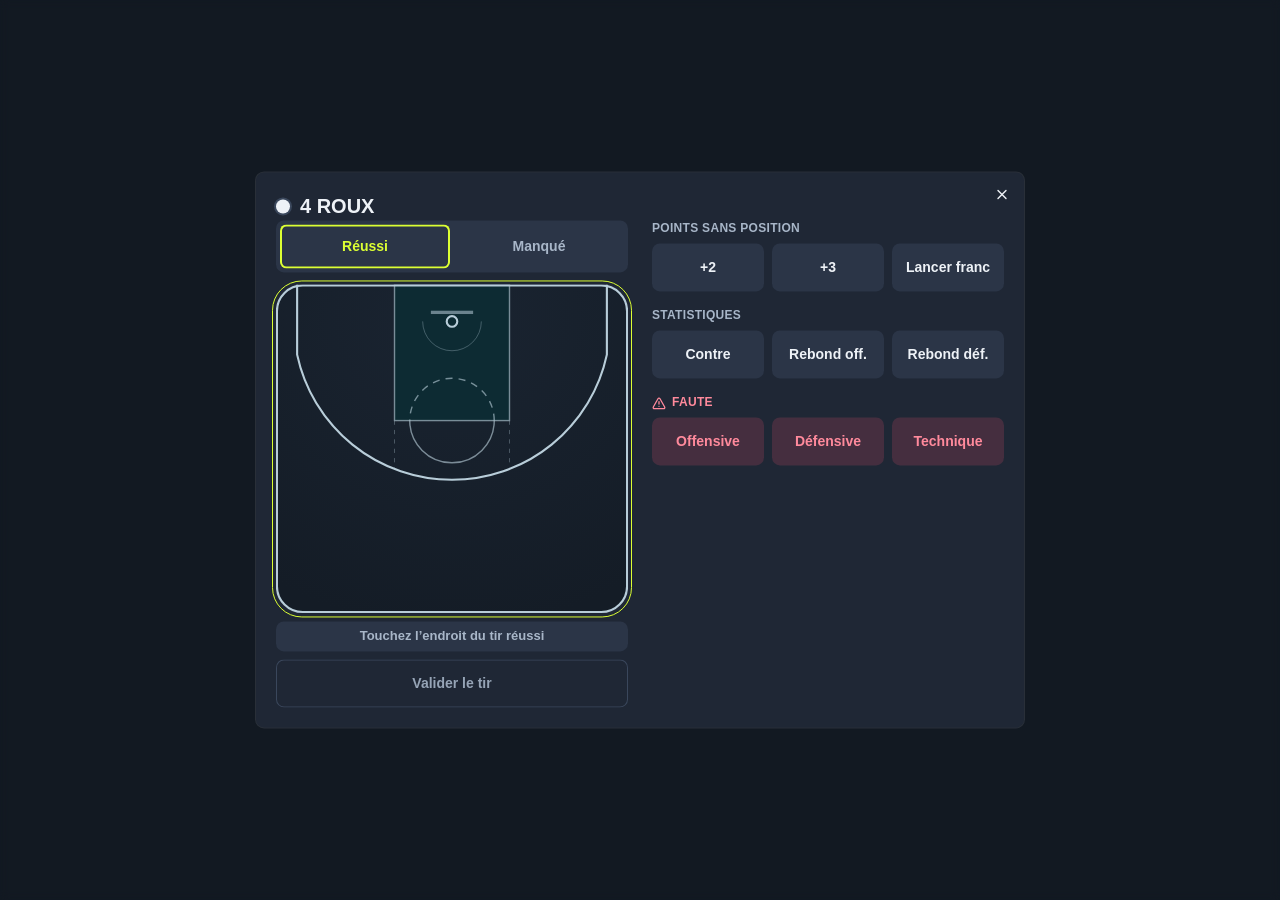
it: PlayerActionDialog — recording a shot › a second tap moves the shot, and validating records it once, at the last spot
Check: the button "Valider le tir" is disabled, box [276,660,628,708]
Click the icon named "Demi-terrain — toucher le point de tir" at [452, 449], box [276,284,628,613]
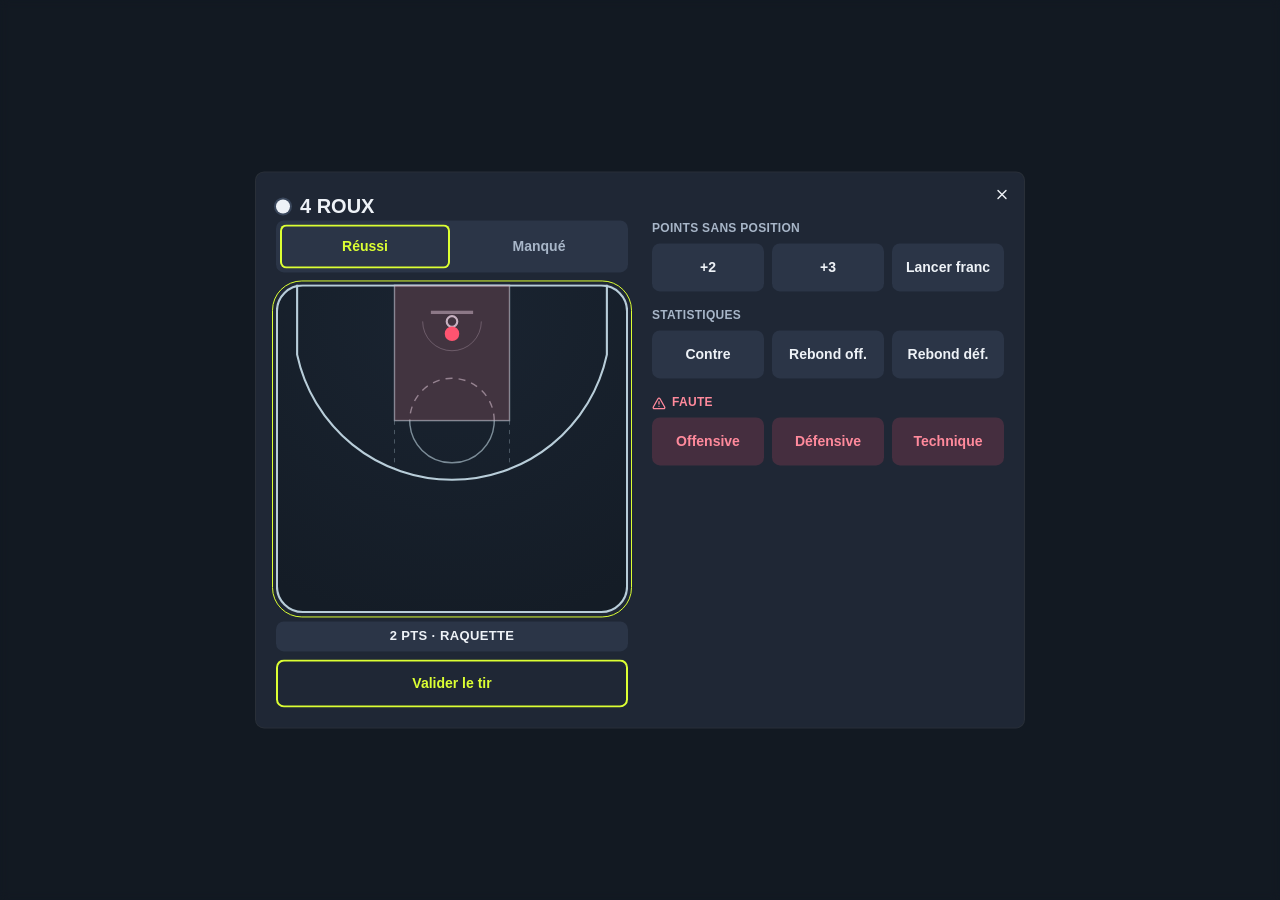
Click the icon named "Demi-terrain — toucher le point de tir" at [452, 449], box [276,284,628,613]
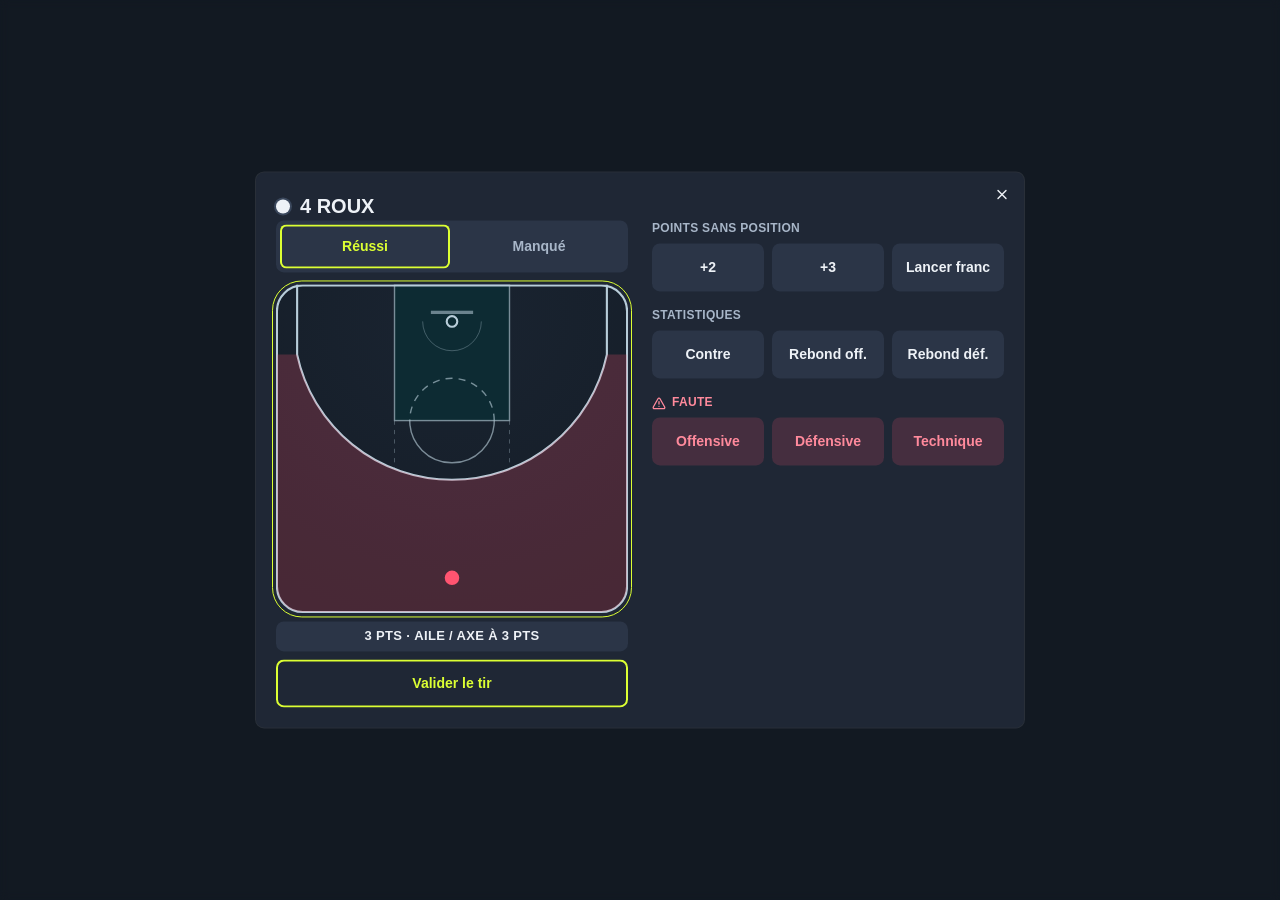
Check: the message shows "3 PTS", box [364,628,540,643]
Click the button "Valider le tir" at [452, 684], box [276,660,628,708]
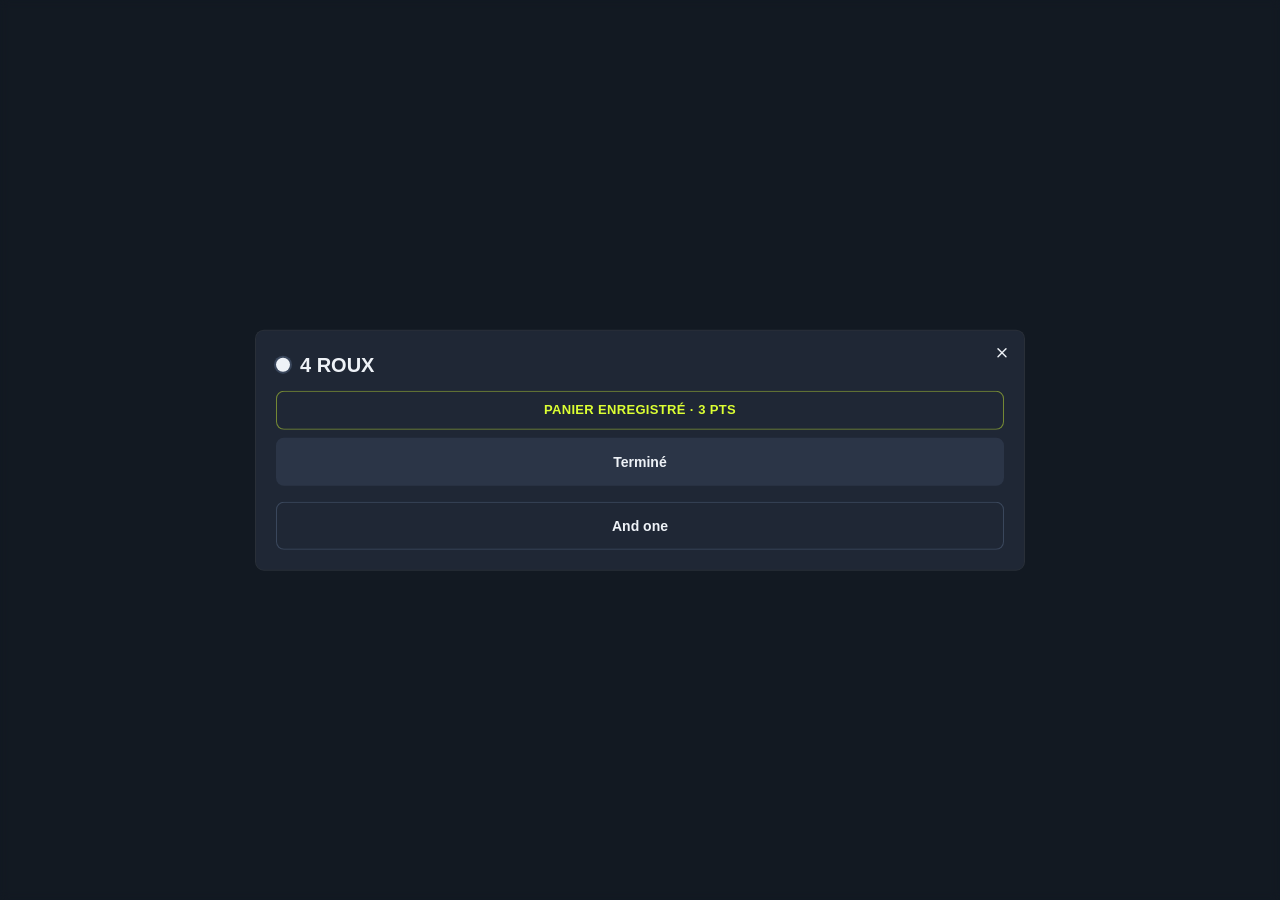
Check: the message reads "Panier enregistré · 3 PTS", box [544,402,736,417]
